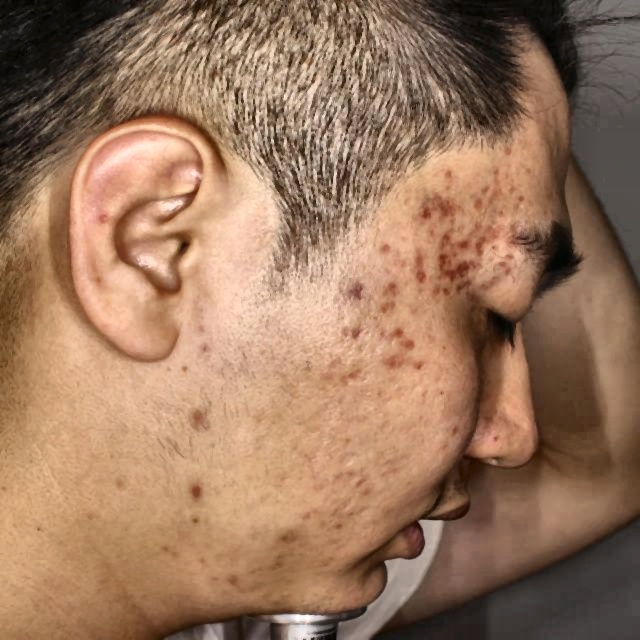pustule: (383, 313, 426, 359), (169, 472, 210, 512), (438, 185, 476, 228), (436, 225, 468, 254), (273, 526, 311, 550), (428, 254, 468, 276), (188, 403, 218, 431), (406, 260, 436, 288), (473, 220, 497, 252), (482, 256, 508, 284), (382, 344, 402, 378), (347, 317, 369, 339), (347, 278, 368, 299), (378, 276, 396, 296), (448, 278, 467, 296), (420, 204, 432, 225)
